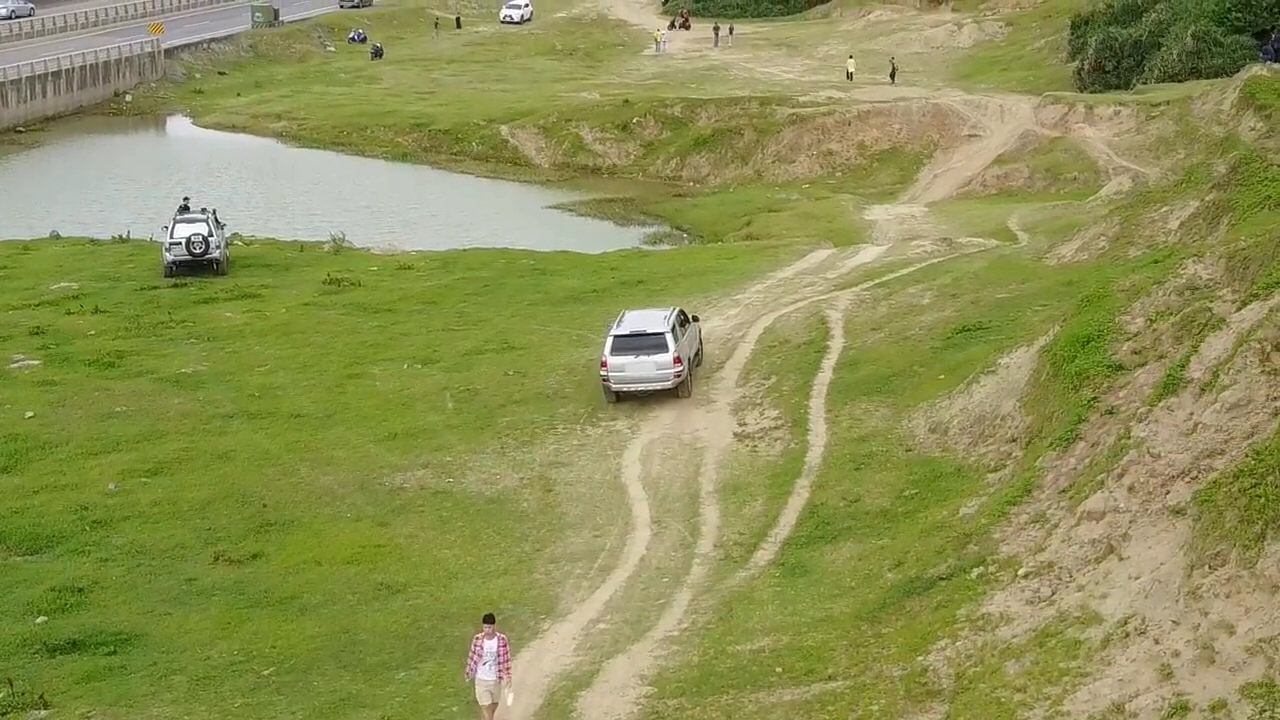araba: (597, 304, 707, 402), (164, 213, 230, 276), (494, 1, 537, 26)
insan: (460, 613, 519, 720), (885, 54, 900, 86), (844, 53, 859, 83), (430, 13, 444, 40), (711, 19, 723, 47), (653, 27, 666, 52), (725, 22, 735, 51), (455, 12, 466, 35), (177, 193, 192, 209)
